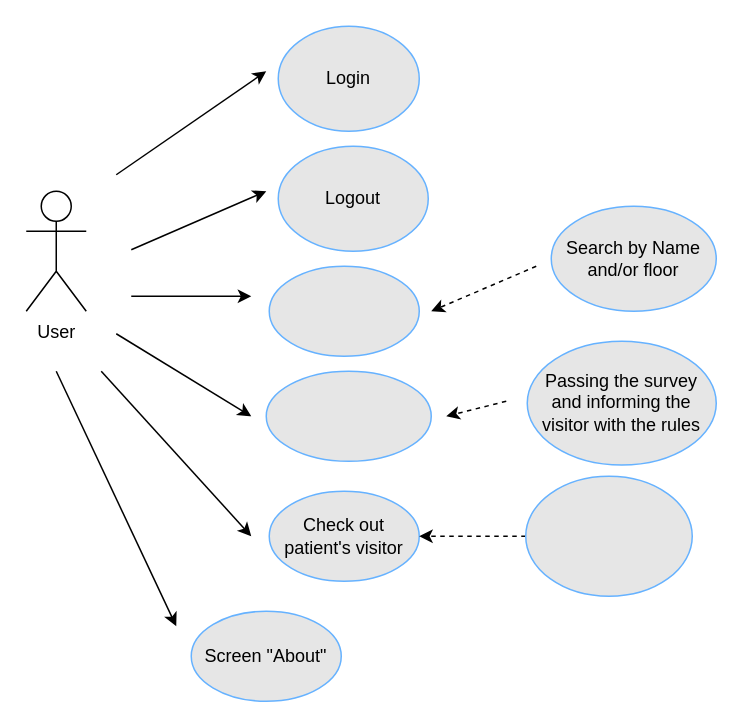
Image size: 743x728. Some labels were removed from this diagram. The shapes that lost their labels are listed below. From the top down, each one's box as (x1, y1, x2, y2) in pixels, then its label:
(268, 265, 419, 356): Search patient
(265, 370, 431, 461): Check in patient's visitor
(524, 475, 692, 596): Change patient status to "available for visiting"
